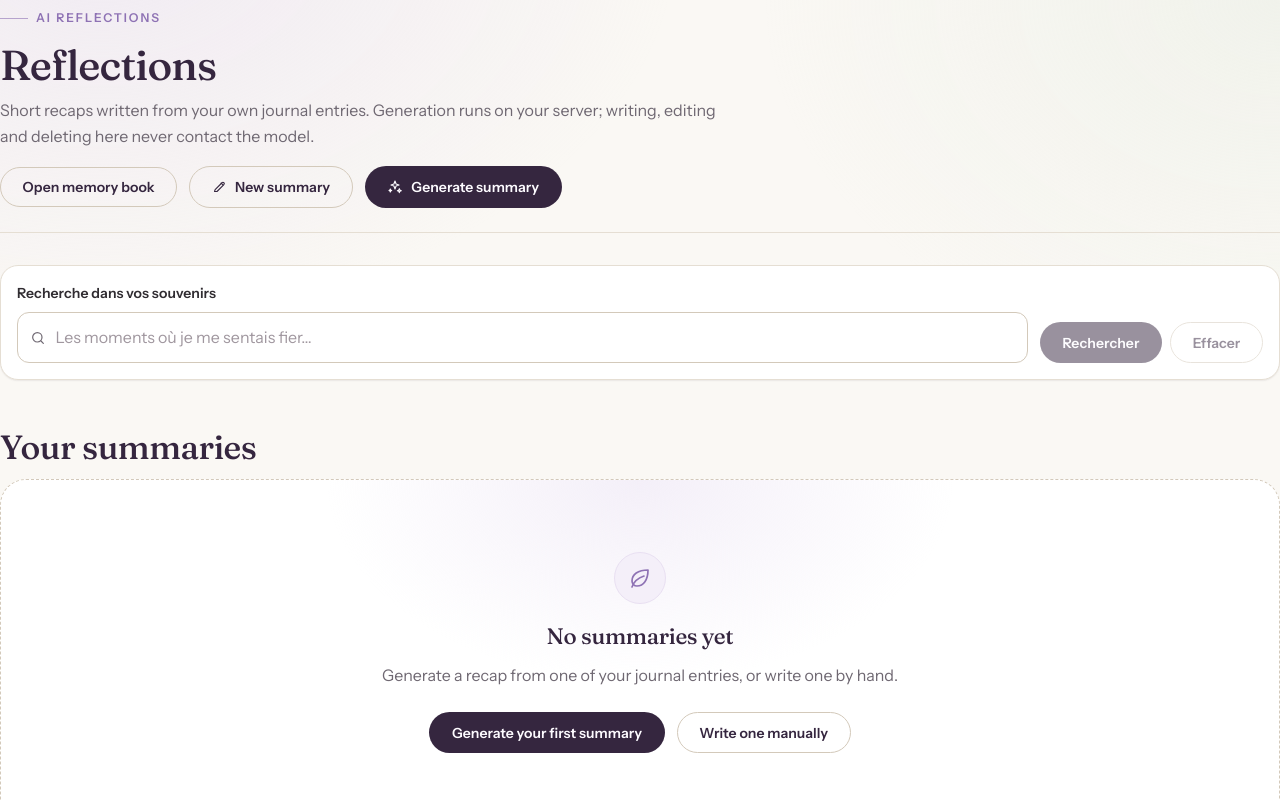
Test case: SummariesPage › shows a required-field error and never posts an empty summary
Expected: the heading "No summaries yet" is shown, [547, 624, 733, 650]
Click the button "New summary" at (271, 187), box [189, 166, 353, 208]
(page scrolled)
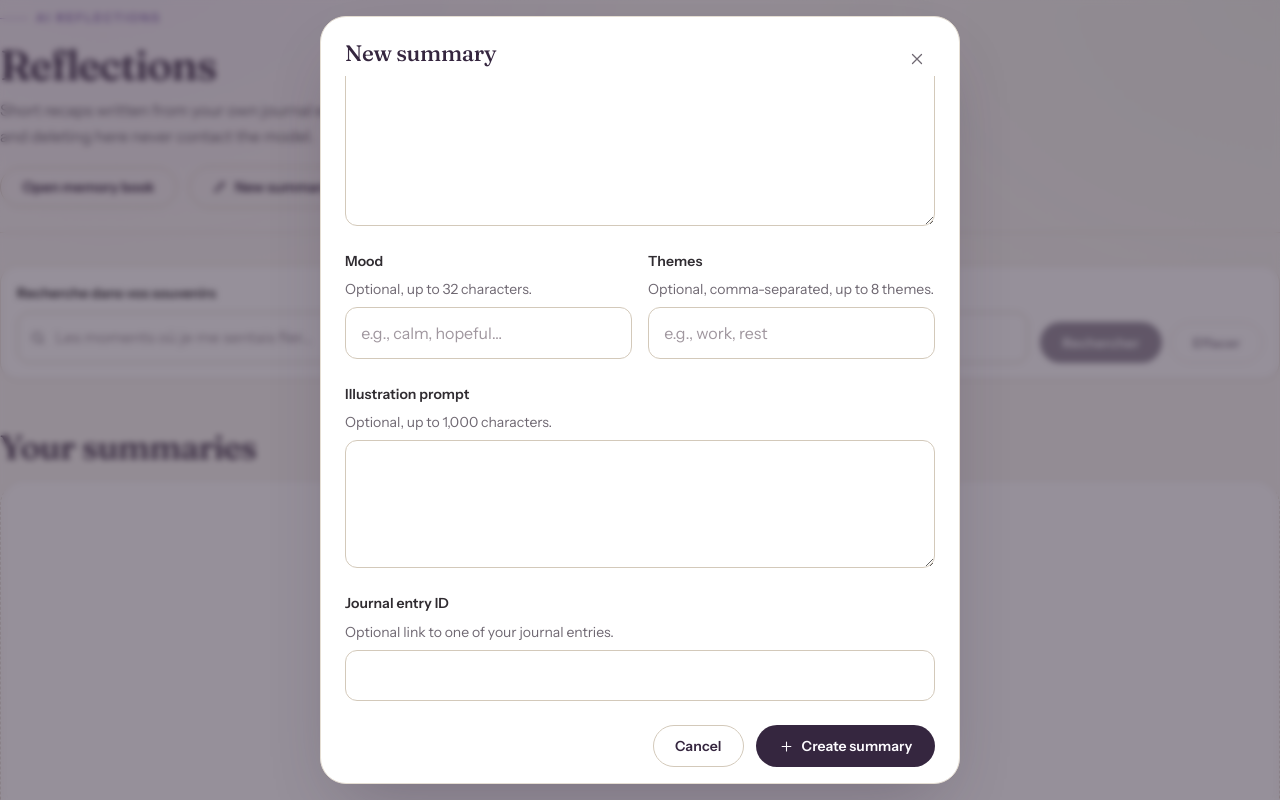
Click the button "Create summary" at (846, 746), box [756, 725, 935, 767]
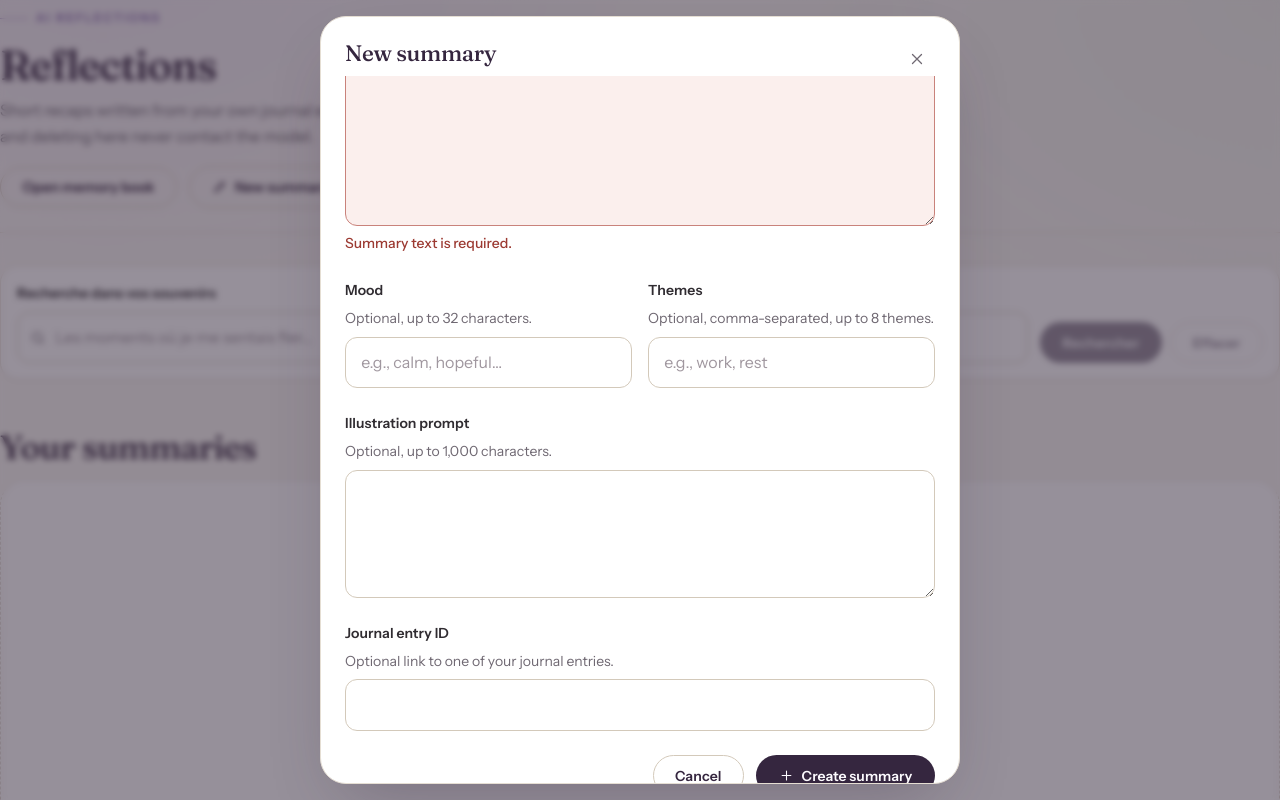
Result: the text "Summary text is required." is shown at [345, 234, 512, 252]
